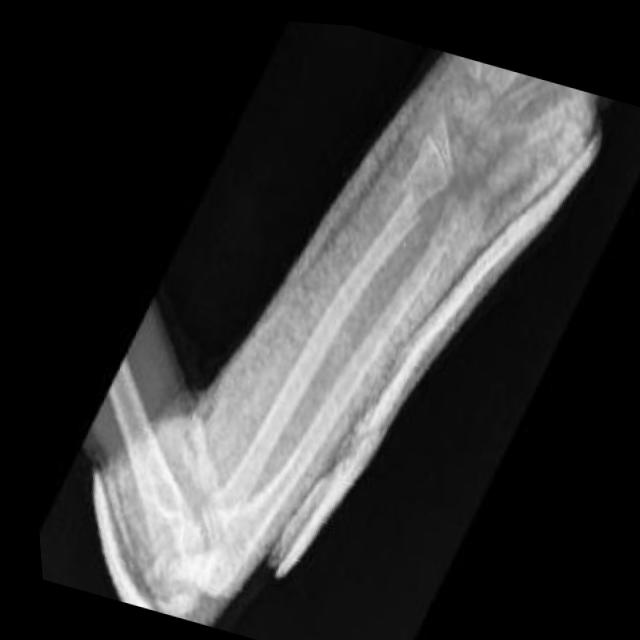fracture: (381, 158, 437, 230)
